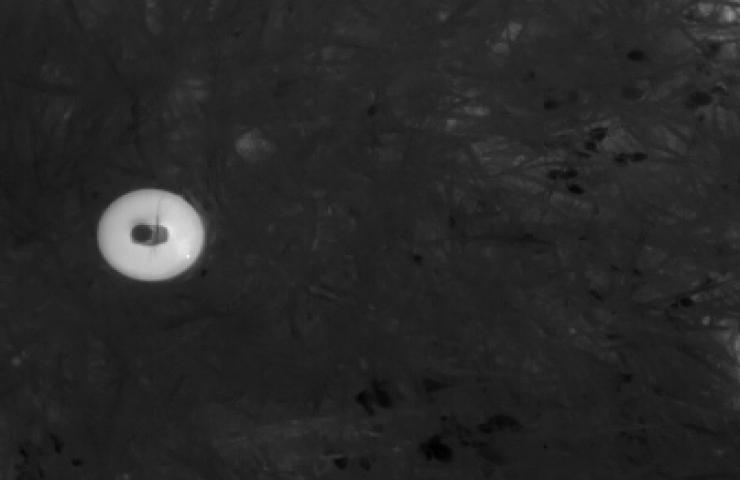landmines: (88, 180, 212, 290)
